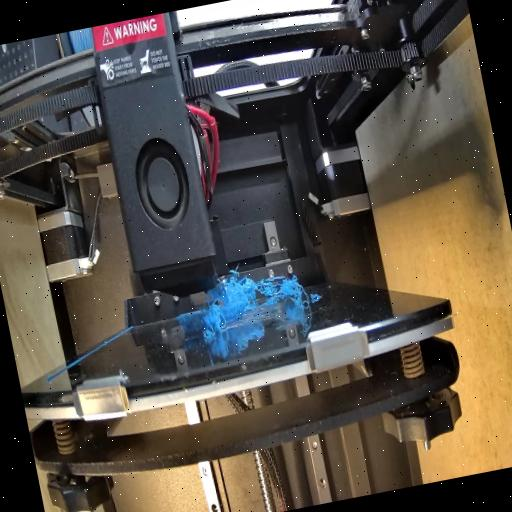spaghetti: (216, 260, 306, 320), (196, 298, 232, 346)
